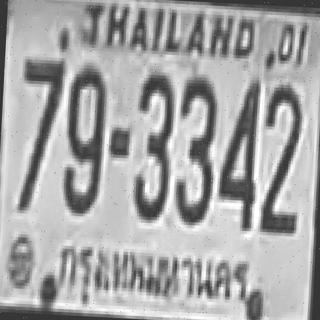N02: (257, 82, 303, 220), (260, 82, 302, 211)
N03: (173, 74, 216, 223), (131, 70, 174, 219)
N04: (215, 76, 259, 228)
N07: (17, 56, 65, 200), (19, 56, 65, 164), (18, 56, 64, 152)
N09: (61, 63, 108, 213)
P04: (52, 234, 256, 314)
